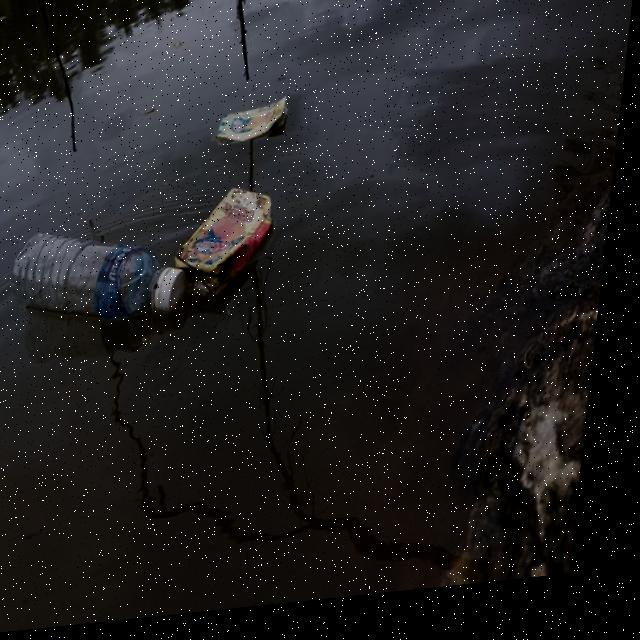paper: (193, 188, 292, 294), (205, 97, 315, 159)
waterbottle: (0, 213, 196, 369)
